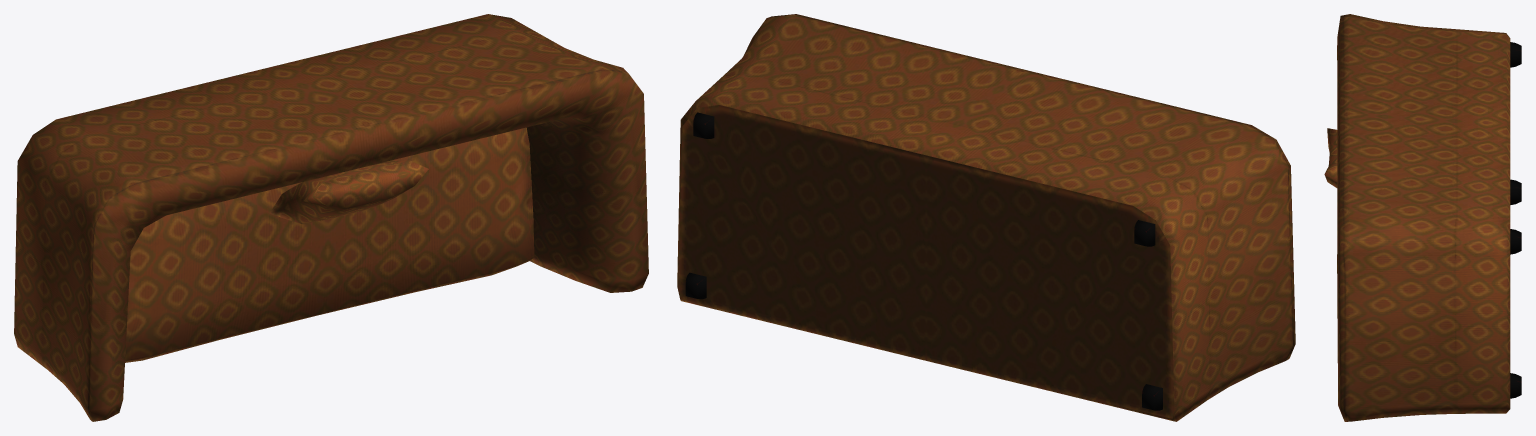
File: nt_2020_moving_couch_01_LOD0.obj
3 views of the same model, side by side, from view 1: azimuth 30°, elevation 25°; view 2: azimuth 150°, elevation 25°; view 3: azimuth 270°, elevation 25° (orthographic). The views are drawn at different scales.
Visible parts, largest first — view 1: mtl_nt_2020_moving_couch_01; view 2: mtl_nt_2020_moving_couch_01; view 3: mtl_nt_2020_moving_couch_01.
Part boxes in pixels (<box>): mtl_nt_2020_moving_couch_01: <box>14,14,648,421</box>; mtl_nt_2020_moving_couch_01: <box>677,14,1295,421</box>; mtl_nt_2020_moving_couch_01: <box>1324,14,1521,421</box>.
Bounding box in the file's own units: 219 × 86.24 × 79.08.
